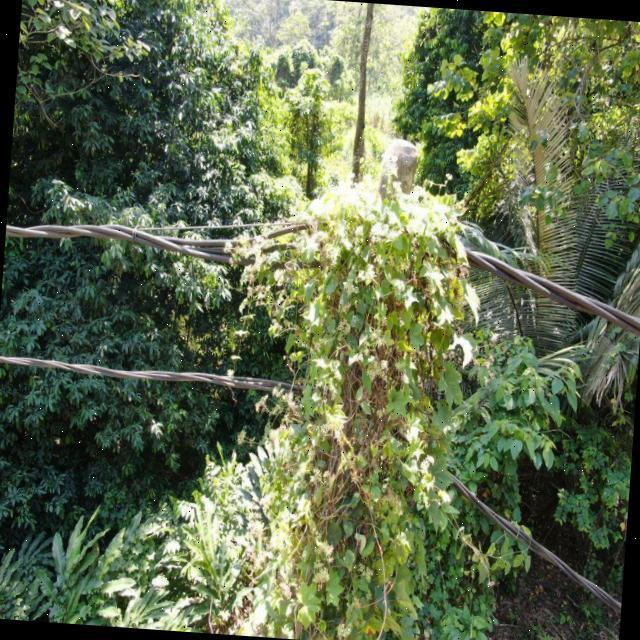critical vegetation: (192, 113, 523, 640)
